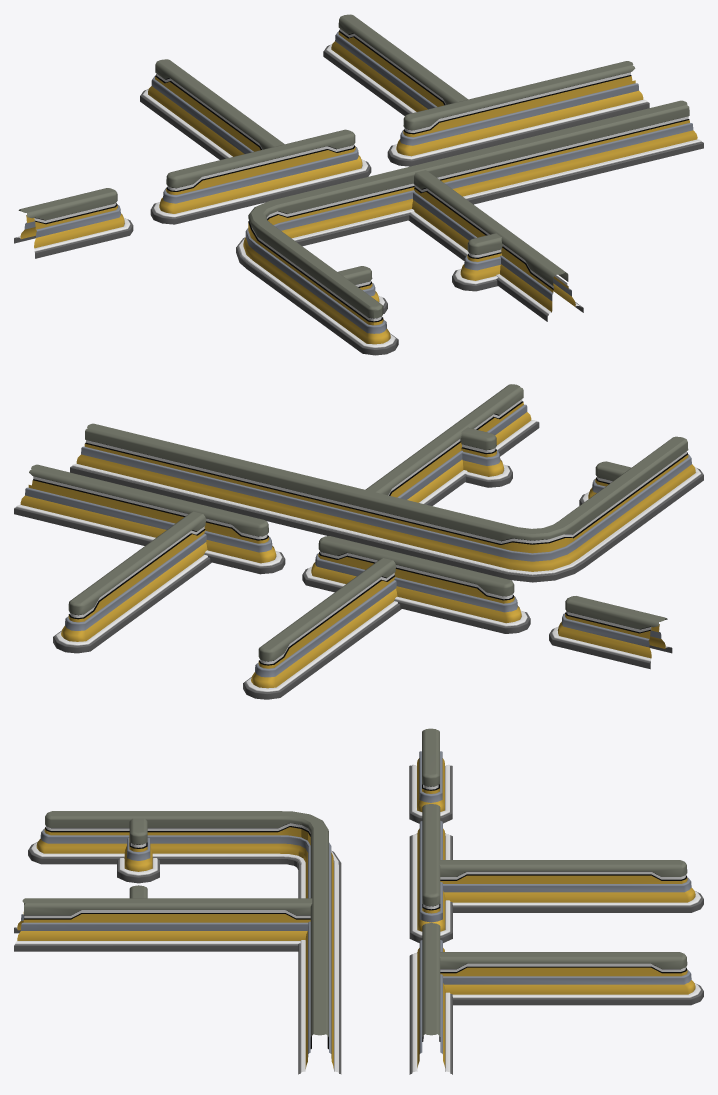
Rendered from Small walls.fbx.
The picture shows the model from 3 angles, top to bottom: view 1: azimuth 30°, elevation 25°; view 2: azimuth 150°, elevation 25°; view 3: azimuth 270°, elevation 25°; orthographic projection. The views are drawn at different scales.
Visible parts, largest first — view 1: Small_wall_L53, Small_wallv1_29, Small_wallv1_26, Small_wallv1_20, Small_wallv1_90, Small_wallv1_91, Small_wallv1_23, Small_wallv1_88, Small_wallv1_89; view 2: Small_wall_L53, Small_wallv1_29, Small_wallv1_26, Small_wallv1_90, Small_wallv1_91, Small_wallv1_20, Small_wallv1_23, Small_wallv1_88, Small_wallv1_89; view 3: Small_wall_L53, Small_wallv1_20, Small_wallv1_90, Small_wallv1_91, Small_wallv1_29, Small_wallv1_26, Small_wallv1_23, Small_wallv1_89.
Part boxes in pixels (left/top/right/bottom): Small_wall_L53: left=236, top=100, right=703, bottom=355; Small_wallv1_29: left=387, top=61, right=649, bottom=166; Small_wallv1_26: left=150, top=129, right=371, bottom=224; Small_wallv1_20: left=409, top=170, right=583, bottom=321; Small_wallv1_90: left=323, top=14, right=468, bottom=115; Small_wallv1_91: left=140, top=59, right=284, bottom=159; Small_wallv1_23: left=14, top=188, right=133, bottom=258; Small_wallv1_88: left=452, top=233, right=502, bottom=291; Small_wallv1_89: left=338, top=266, right=387, bottom=313; Small_wall_L53: left=70, top=423, right=703, bottom=582; Small_wallv1_29: left=14, top=464, right=285, bottom=574; Small_wallv1_26: left=302, top=536, right=530, bottom=633; Small_wallv1_90: left=53, top=511, right=211, bottom=653; Small_wallv1_91: left=243, top=558, right=401, bottom=699; Small_wallv1_20: left=365, top=384, right=539, bottom=505; Small_wallv1_23: left=549, top=596, right=672, bottom=669; Small_wallv1_88: left=460, top=427, right=512, bottom=487; Small_wallv1_89: left=579, top=461, right=631, bottom=505; Small_wall_L53: left=28, top=811, right=341, bottom=1074; Small_wallv1_20: left=14, top=898, right=312, bottom=951; Small_wallv1_90: left=439, top=952, right=703, bottom=1005; Small_wallv1_91: left=439, top=860, right=703, bottom=912; Small_wallv1_29: left=409, top=923, right=452, bottom=1074; Small_wallv1_26: left=409, top=804, right=452, bottom=942; Small_wallv1_23: left=409, top=728, right=452, bottom=823; Small_wallv1_89: left=117, top=818, right=159, bottom=883.
Size of the model in its own units: 587 by 38.71 by 551.
